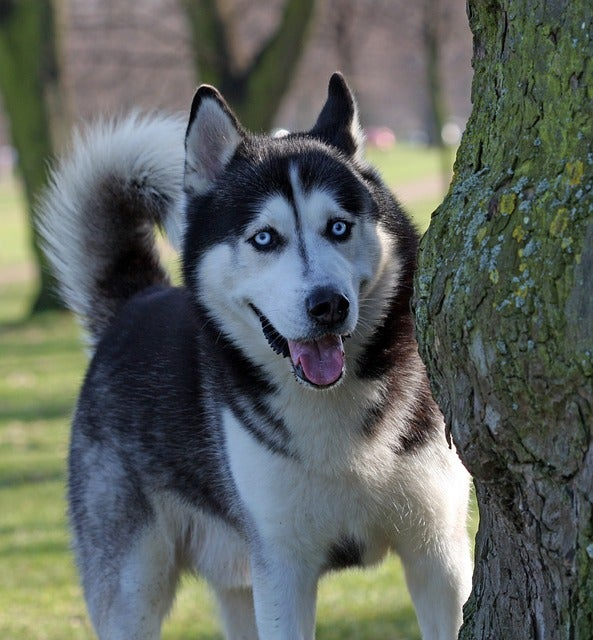husky: (37, 70, 460, 631)
